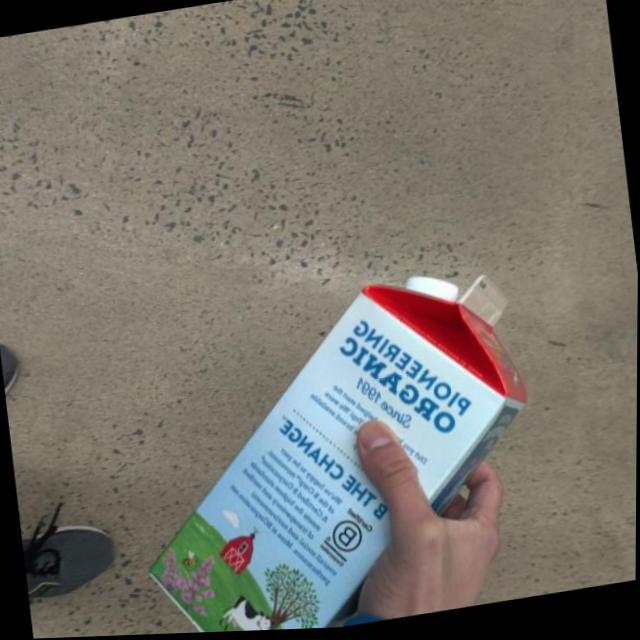Milk: (111, 263, 548, 637)
